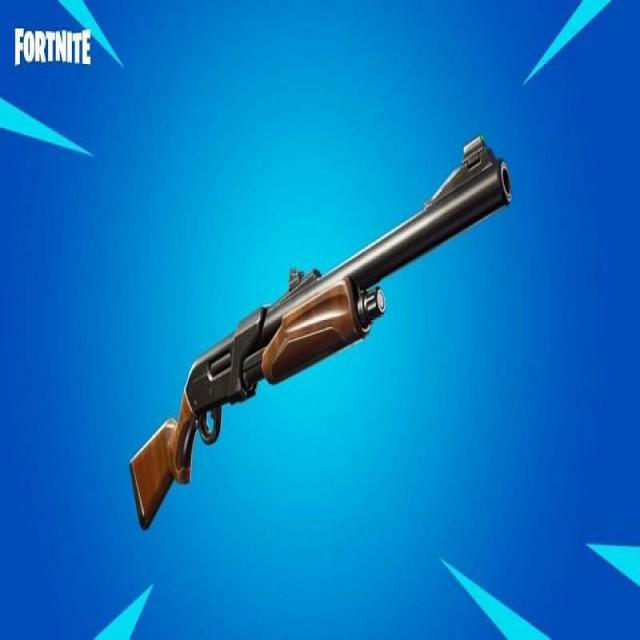ShotGun: (130, 137, 513, 532)
